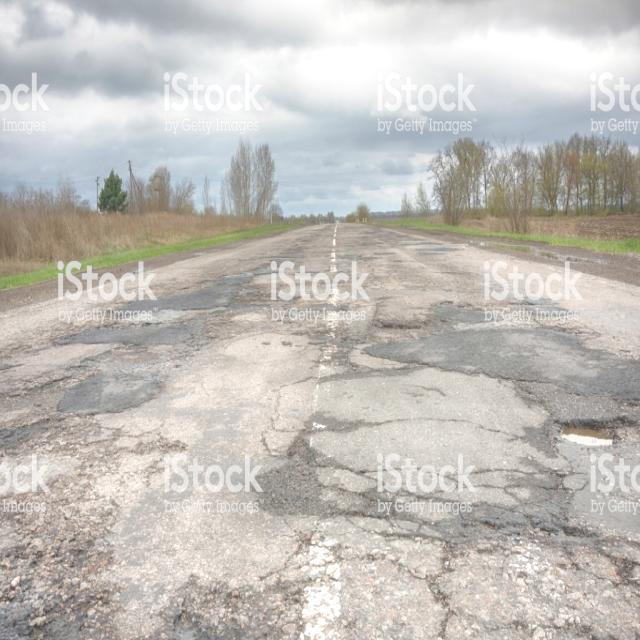Pothole: (370, 300, 640, 447)
